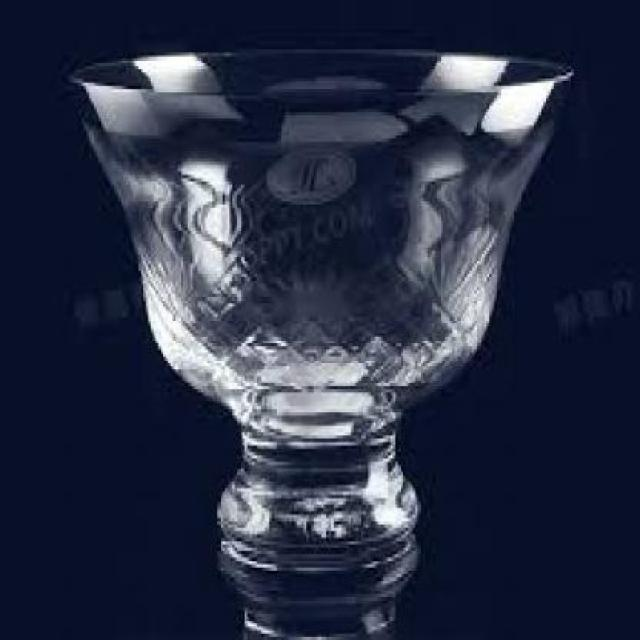kaca: (66, 43, 571, 571)
